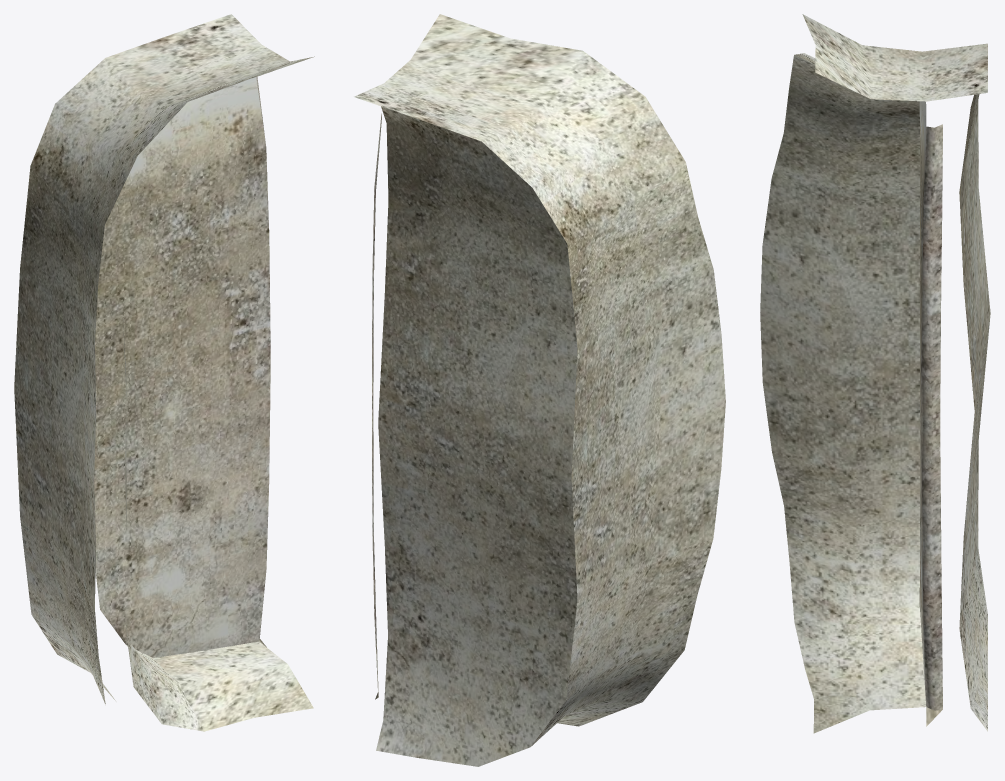
File: furniture_duhoc_couch_dirty3.glb
3 views of the same model, side by side, from view 1: azimuth 30°, elevation 25°; view 2: azimuth 150°, elevation 25°; view 3: azimuth 270°, elevation 25° (orthographic).
Bounding box in the file's own units: 38.63 × 95.73 × 29.62.
Materials: 1 (1 with a texture image).
